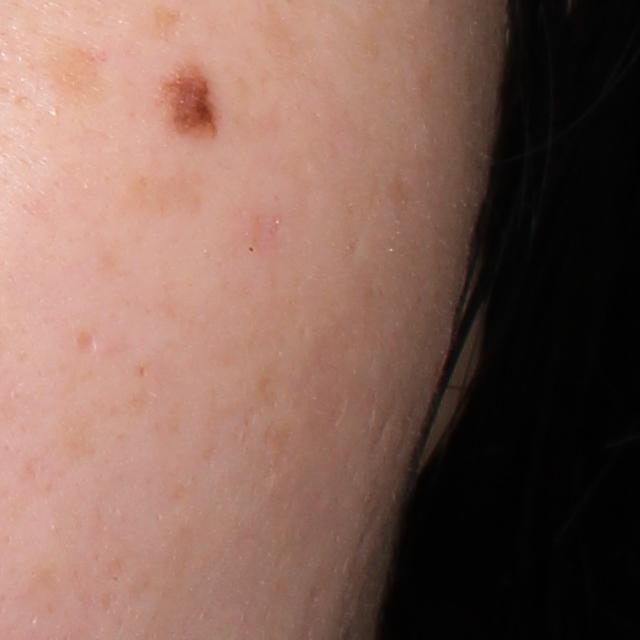atrophic_scar: (76, 329, 99, 359)
melasma: (34, 42, 122, 104)
nevus: (168, 68, 216, 144)
